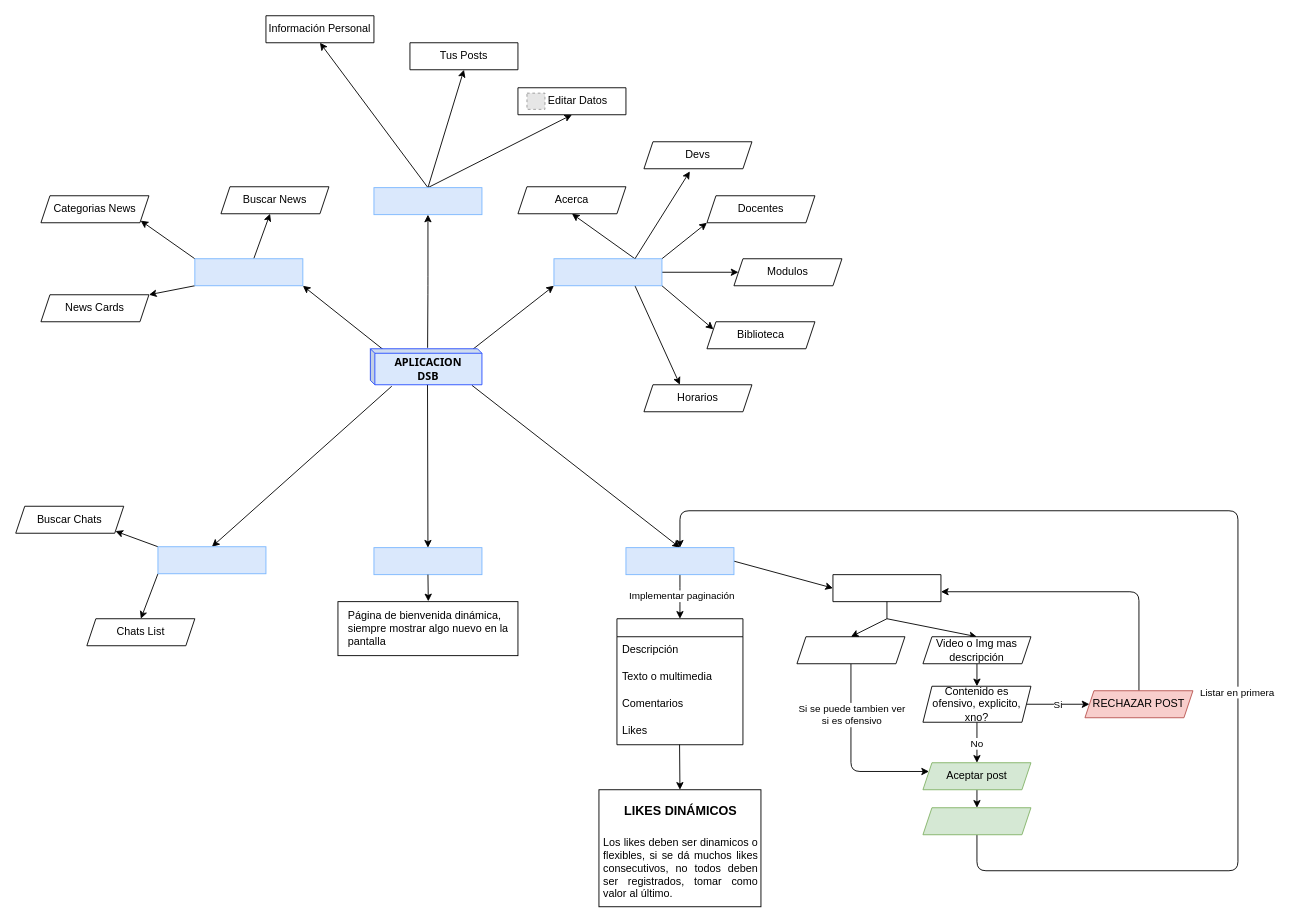
Image size: 1290x923. Some labels were removed from this diagram. Grey dashed boxes stand in for pictures. Here are the shapes that lost their labels. From the top down, the box of each, then its label:
(373, 187, 482, 215): PERFIL
(194, 258, 303, 286): NOTICIAS
(553, 258, 662, 286): DSI
(157, 546, 266, 574): CHATS
(373, 547, 482, 575): INICIO
(625, 547, 734, 575): POSTS
(832, 574, 941, 602): Subir Post
(796, 636, 905, 664): Solo texto
(616, 618, 743, 745): List Post - Cards
(922, 807, 1031, 835): PUBLICAR
